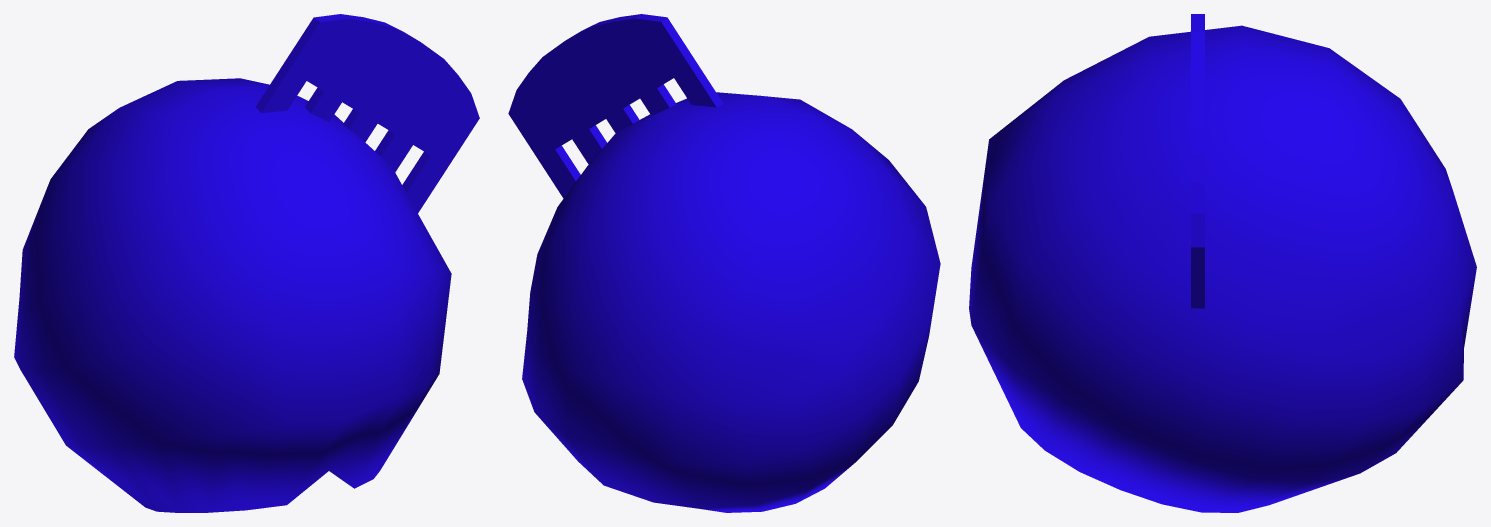
File: Afro.fbx
The picture shows the model from 3 angles, left to right: view 1: azimuth 30°, elevation 25°; view 2: azimuth 150°, elevation 25°; view 3: azimuth 270°, elevation 25°; orthographic projection. The views are drawn at different scales.
Visible parts, largest first — view 1: Afro; view 2: Afro; view 3: Afro.
Part boxes in pixels (x1=…): Afro: x1=14, y1=14, x2=479, y2=512; Afro: x1=508, y1=14, x2=940, y2=512; Afro: x1=969, y1=14, x2=1476, y2=512.
Bounding box in the file's own units: 111 × 115 × 105.
